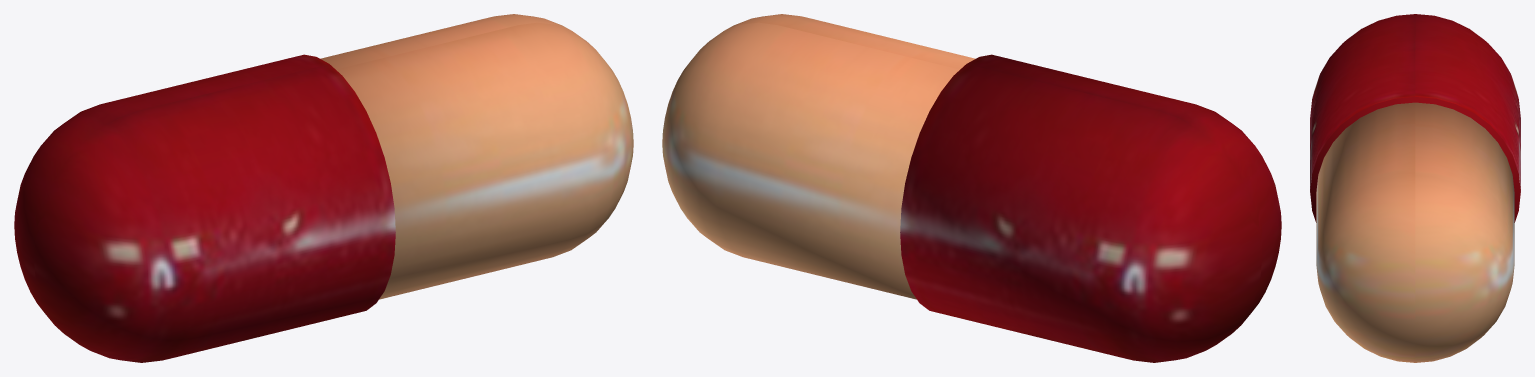
The model's file is 20140311GOPHDRGPT01898.fbx.
The picture shows the model from 3 angles, left to right: view 1: azimuth 30°, elevation 25°; view 2: azimuth 150°, elevation 25°; view 3: azimuth 270°, elevation 25°; orthographic projection. The views are drawn at different scales.
Visible parts, largest first — view 1: 球體.015; view 2: 球體.015; view 3: 球體.015.
Boxes of the visible parts, left/top/right/bottom form: 球體.015: left=14, top=14, right=633, bottom=362; 球體.015: left=662, top=14, right=1281, bottom=362; 球體.015: left=1310, top=14, right=1520, bottom=362.
Size of the model in its own units: 2.12 by 0.8378 by 0.8378.
